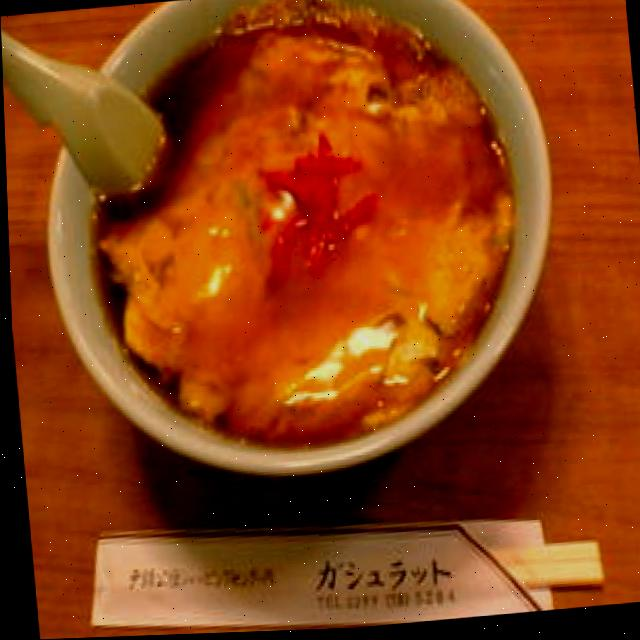面条主食: (60, 0, 558, 458)
